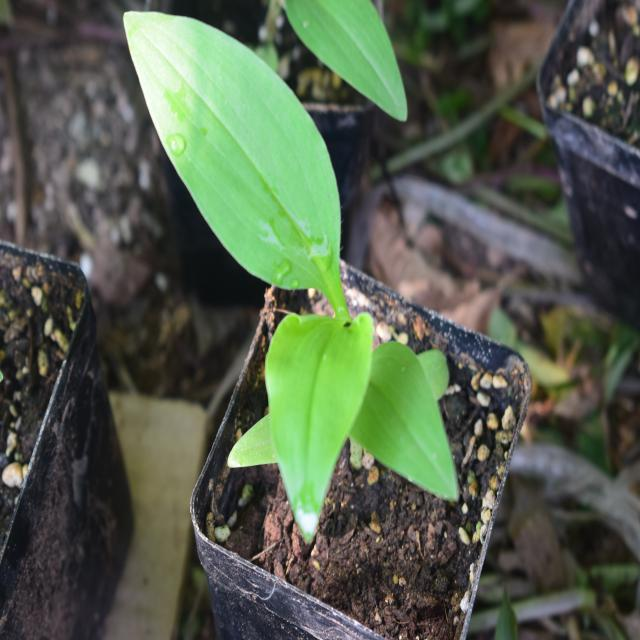Common Dayflower: (117, 19, 465, 529)
